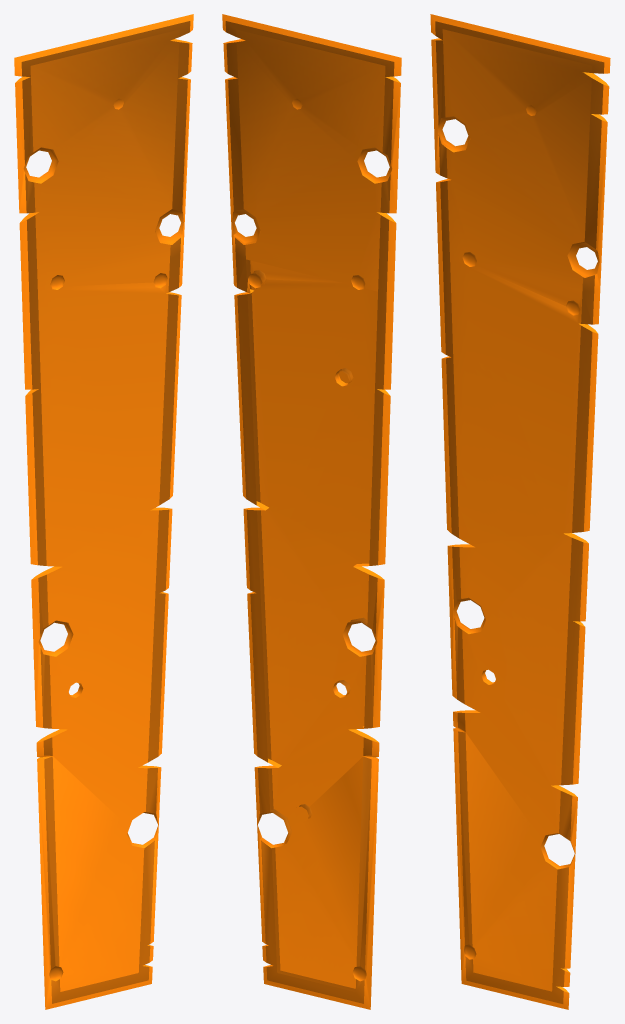
The model's file is bronze_blade_bubbles_039.glb.
The picture shows the model from 3 angles, left to right: view 1: azimuth 30°, elevation 25°; view 2: azimuth 150°, elevation 25°; view 3: azimuth 330°, elevation 25°; orthographic projection.
Parts seen in each view (by area): view 1: bronze_blade_bubbles.039; view 2: bronze_blade_bubbles.039; view 3: bronze_blade_bubbles.039.
Boxes of the visible parts, box(x1,y1,x2,y2) form: bronze_blade_bubbles.039: box(14, 14, 193, 1009); bronze_blade_bubbles.039: box(222, 14, 401, 1009); bronze_blade_bubbles.039: box(430, 14, 610, 1009).
Bounding box in the file's own units: 2.19 × 11.21 × 0.0882.
1 material, 1 textured.
